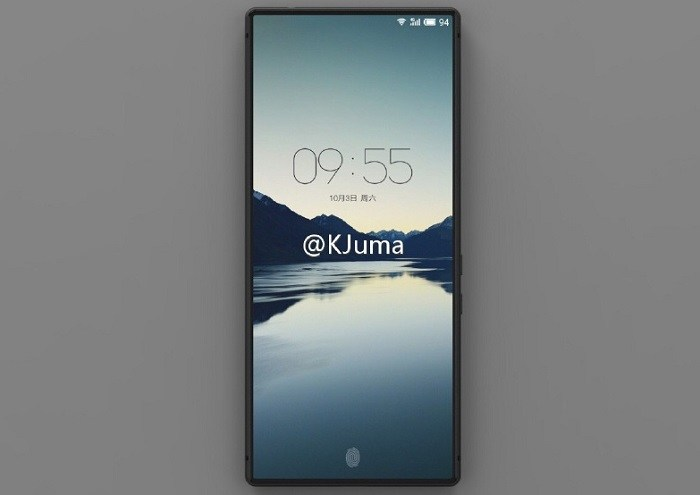Handphone: (237, 4, 469, 491)
